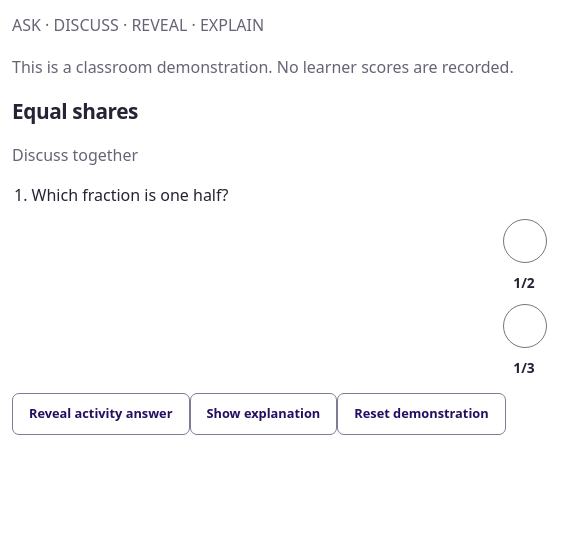
Test: whole-class activity › hides answers and explanations until explicit reveal, resets, and never displays scores
Check: the text "Answer: 1/2" is not shown
Check: the text "Two equal parts make halves." is not shown
What coordinates should you click on to do the following:
click the button "Reveal activity answer"
I would click on:
 (101, 414)
Its box is [12,393,190,435].
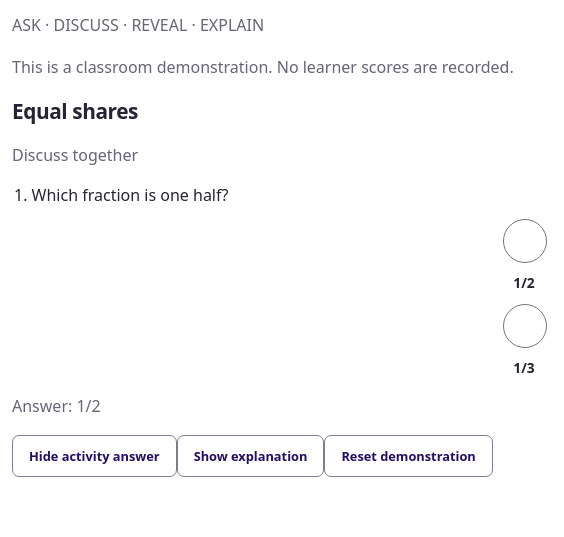
Check: the text "Answer: 1/2" is shown, box [12,395,101,417]
What coordinates should you click on to do the following:
click the button "Show explanation"
I would click on:
 (250, 456)
Its box is [177,435,324,477].
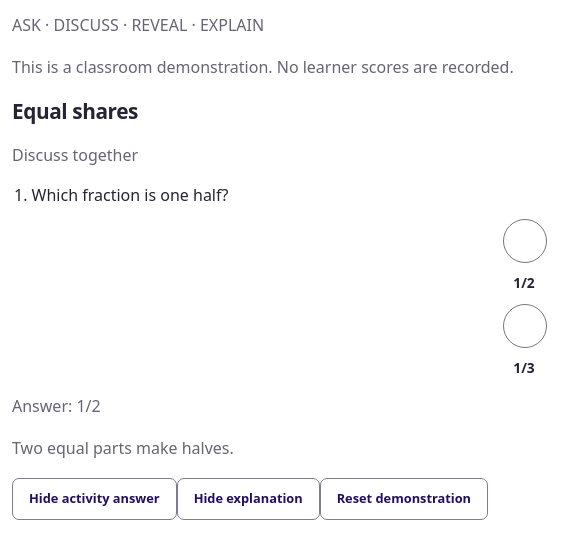
Check: the text "Two equal parts make halves." is shown, box [12,437,234,459]
What coordinates should you click on to do the following:
click the button "Reset demonstration"
I would click on:
 (404, 499)
Its box is [320,478,488,520].
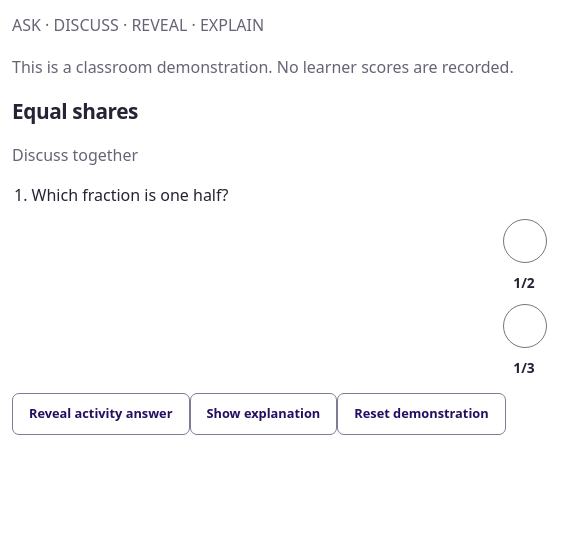
Check: the text "Answer: 1/2" is gone
Check: the text "Two equal parts make halves." is gone
